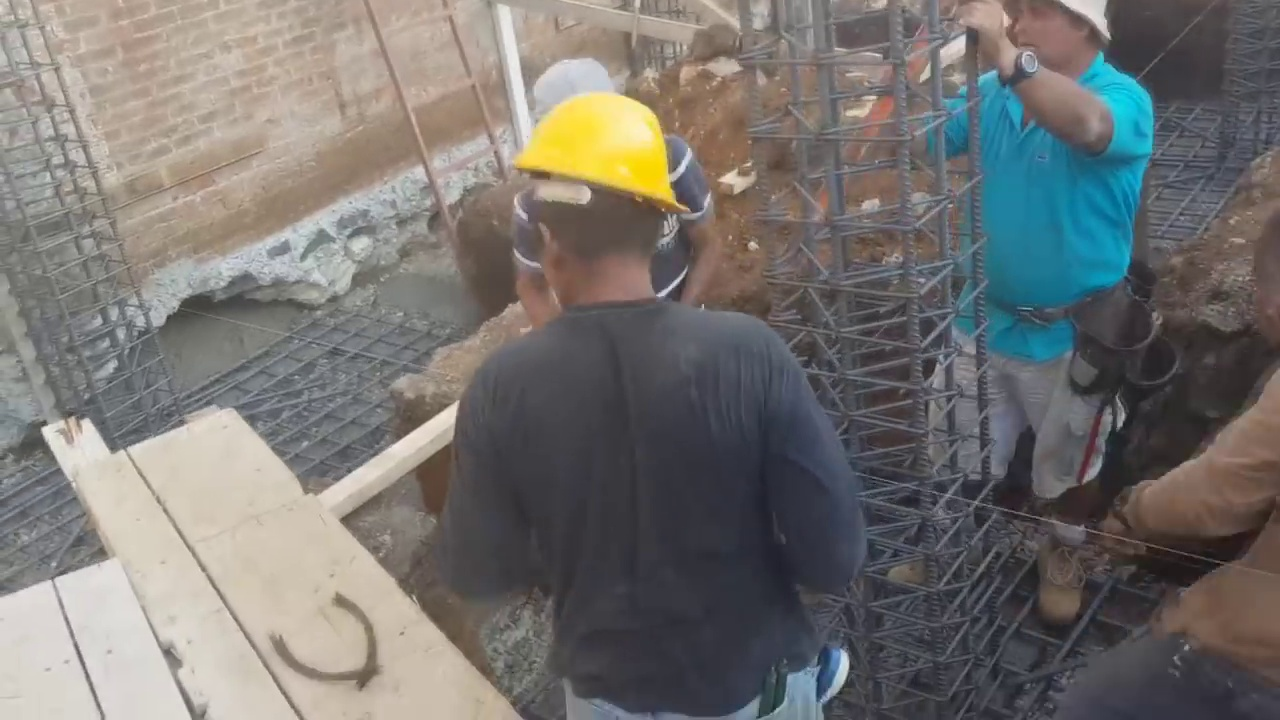helmet: (511, 87, 697, 224)
helmet-off: (1011, 1, 1117, 85), (1250, 209, 1280, 366)
helmet-on: (501, 68, 705, 320)
person: (434, 68, 854, 720), (916, 1, 1156, 607), (1048, 213, 1280, 719)
